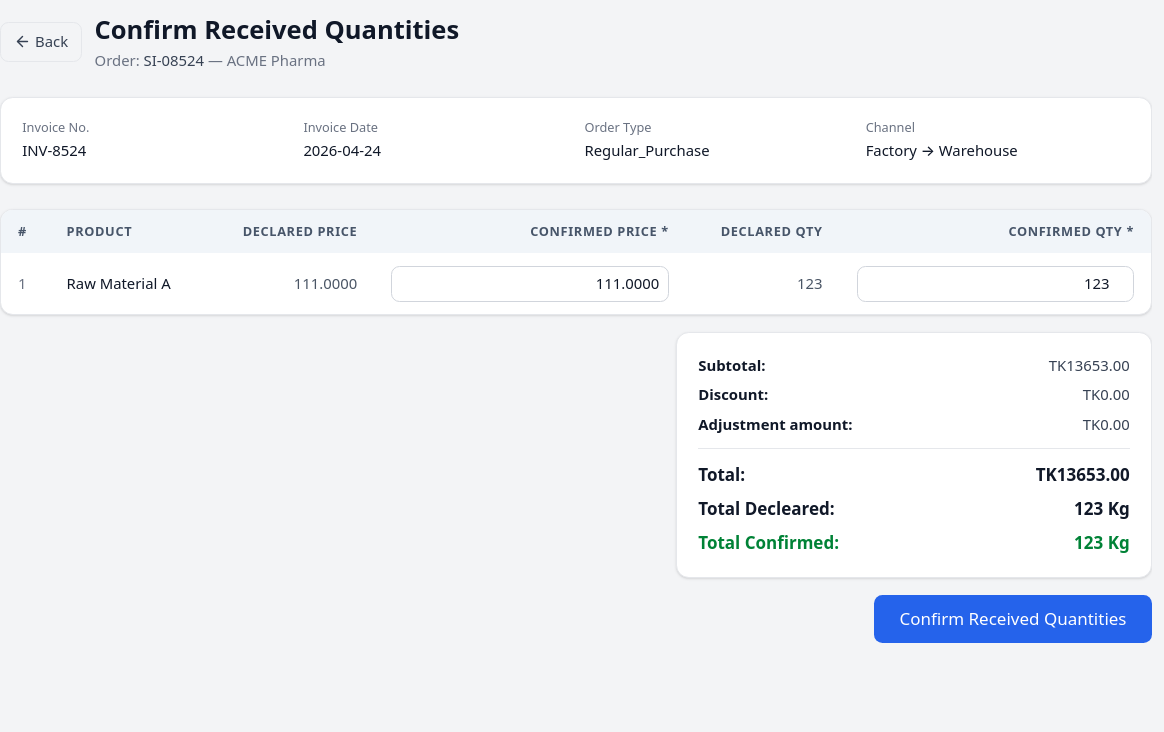
Test: ConfirmQuantityPage summary › renders legacy summary values and updates total confirmed when qty changes
The width and height of the screenshot is (1164, 732).
Expected: the text "Subtotal:" is shown, [698,355,766,376]
Expected: the text "TK13653.00" is shown 2 times, [1049,355,1130,376]; [1036,462,1130,488]
Replace the text in the number field with "120": {"x": 995, "y": 284} [856,266,1134,302]
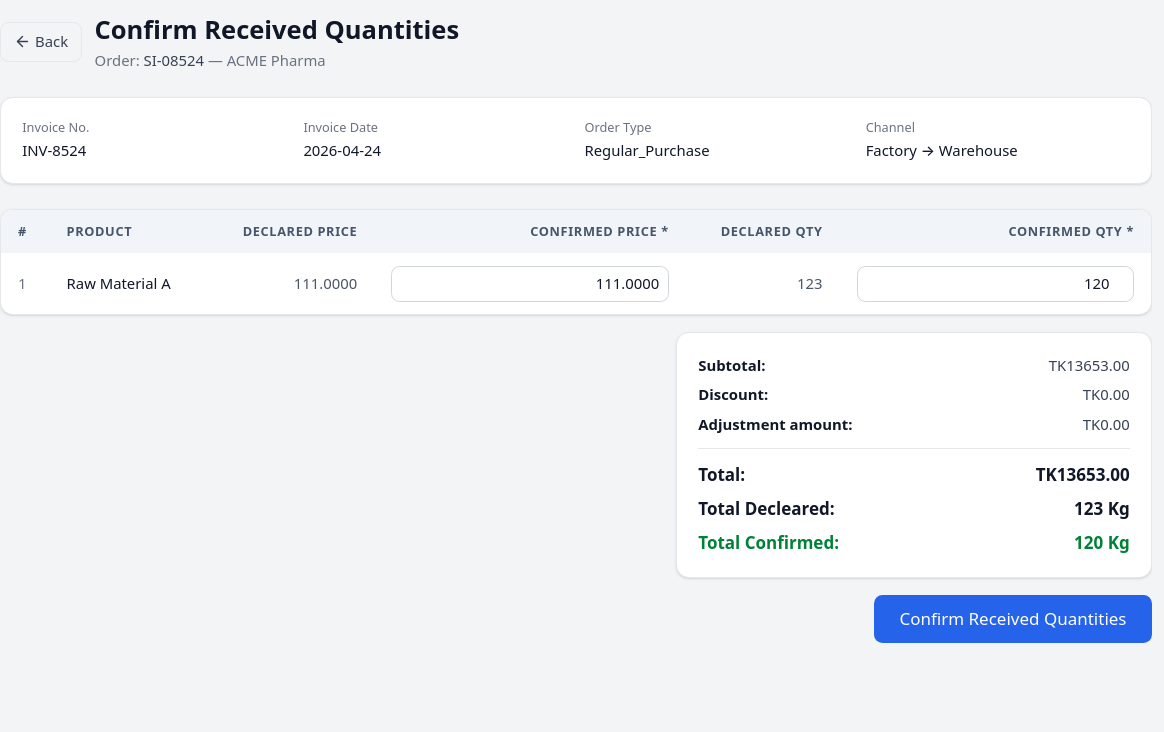
Expected: the text "120 Kg" is shown, [1074,530,1130,556]
